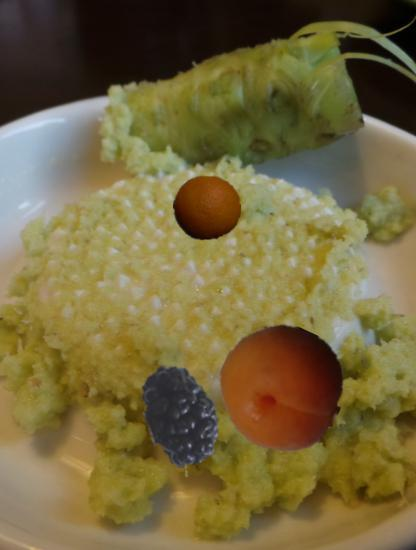Apricot: (219, 325, 345, 451)
Mulberry: (134, 356, 251, 473)
Orange: (173, 174, 241, 242)
